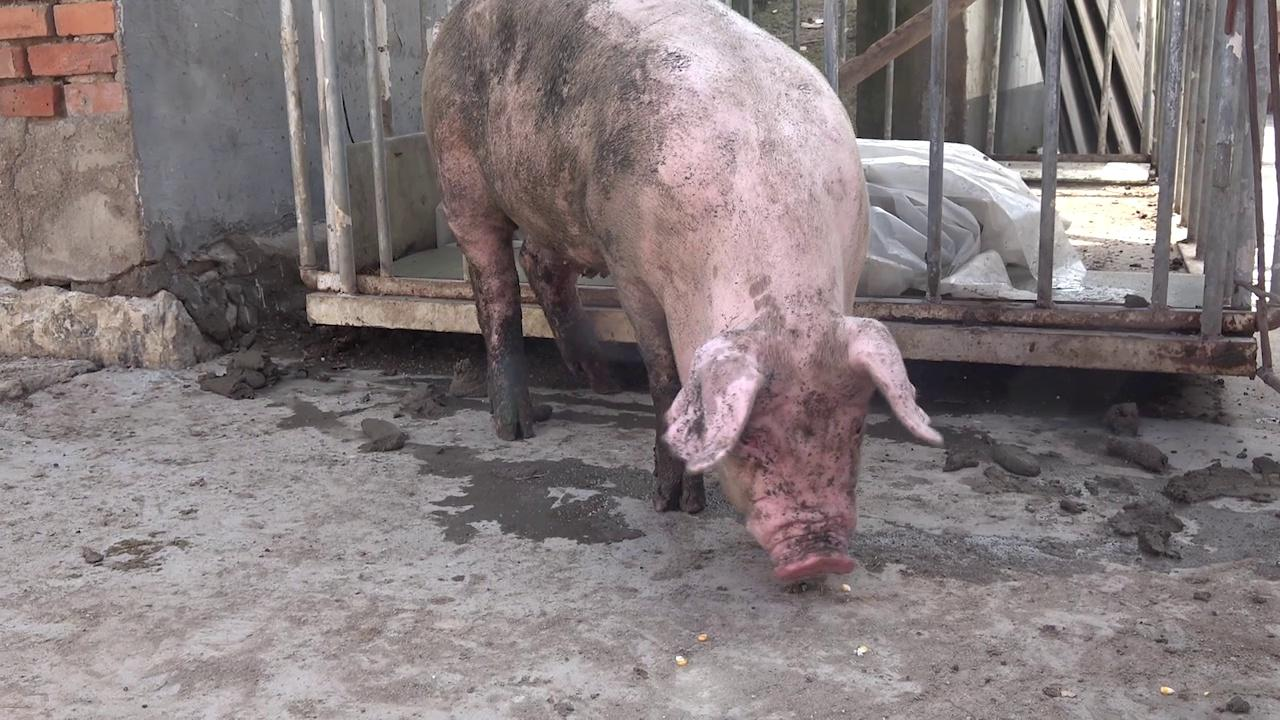Face: (649, 305, 954, 598)
